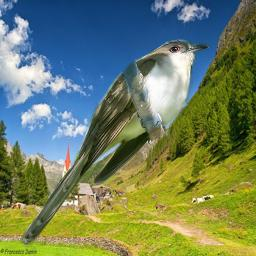Cuckoo: (19, 38, 210, 251)
